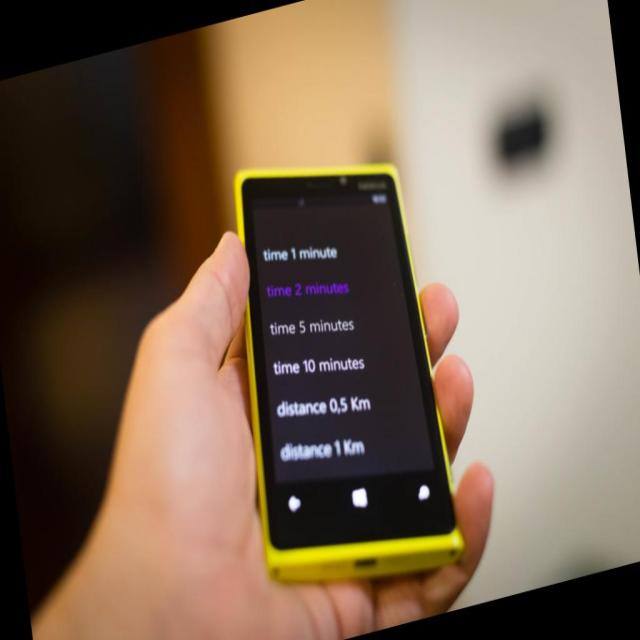handphone: (238, 167, 466, 576)
